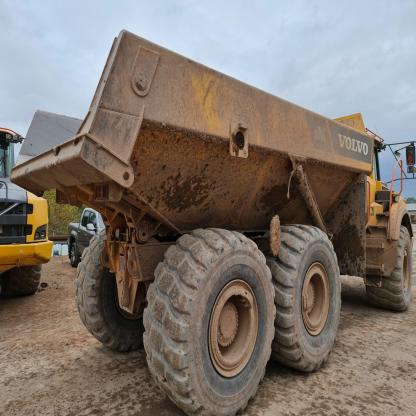dump_truck: (14, 26, 415, 416)
